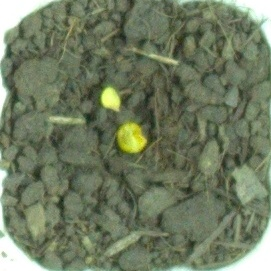pepper seed: (41, 45, 190, 200), (38, 30, 162, 142)
